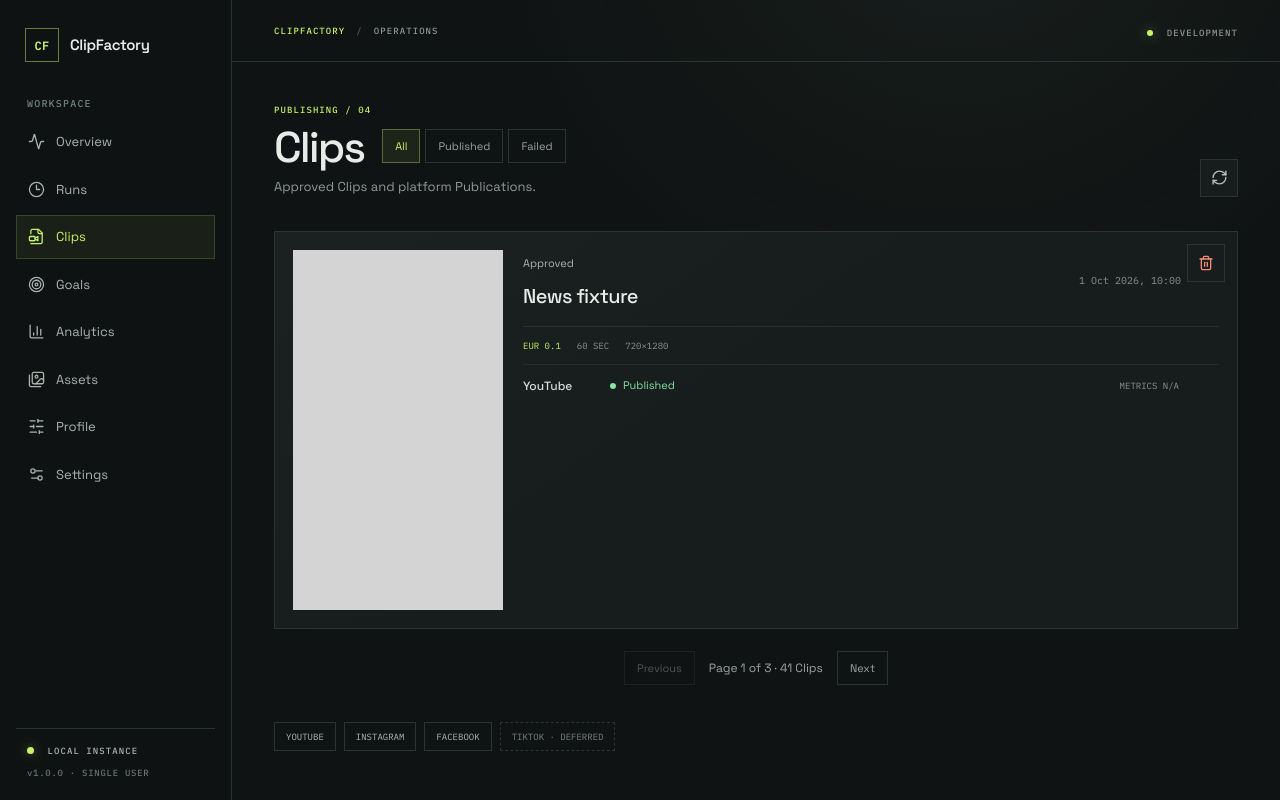
Test: CF-REQ-610 paginates Clips by 20 and resets offset across All, Published and Failed tabs
Expected: the link "News fixture" is shown, [523,283,638,309]
Click the button "Next".
click(862, 668)  # box [837,651,888,685]
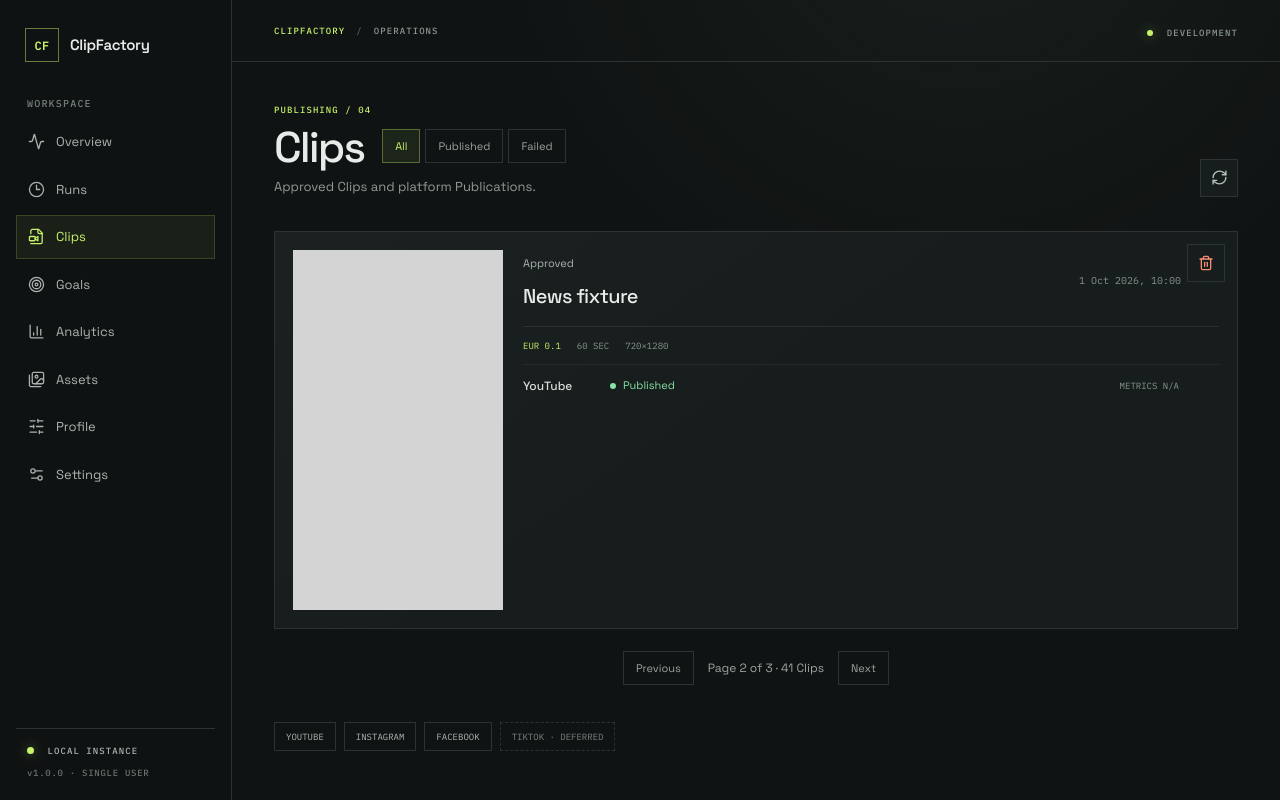
Expected: the text "Page 2 of 3 · 41 Clips" is shown, [708,659,824,677]
Click the button "Previous".
click(658, 668)  # box [623,651,694,685]
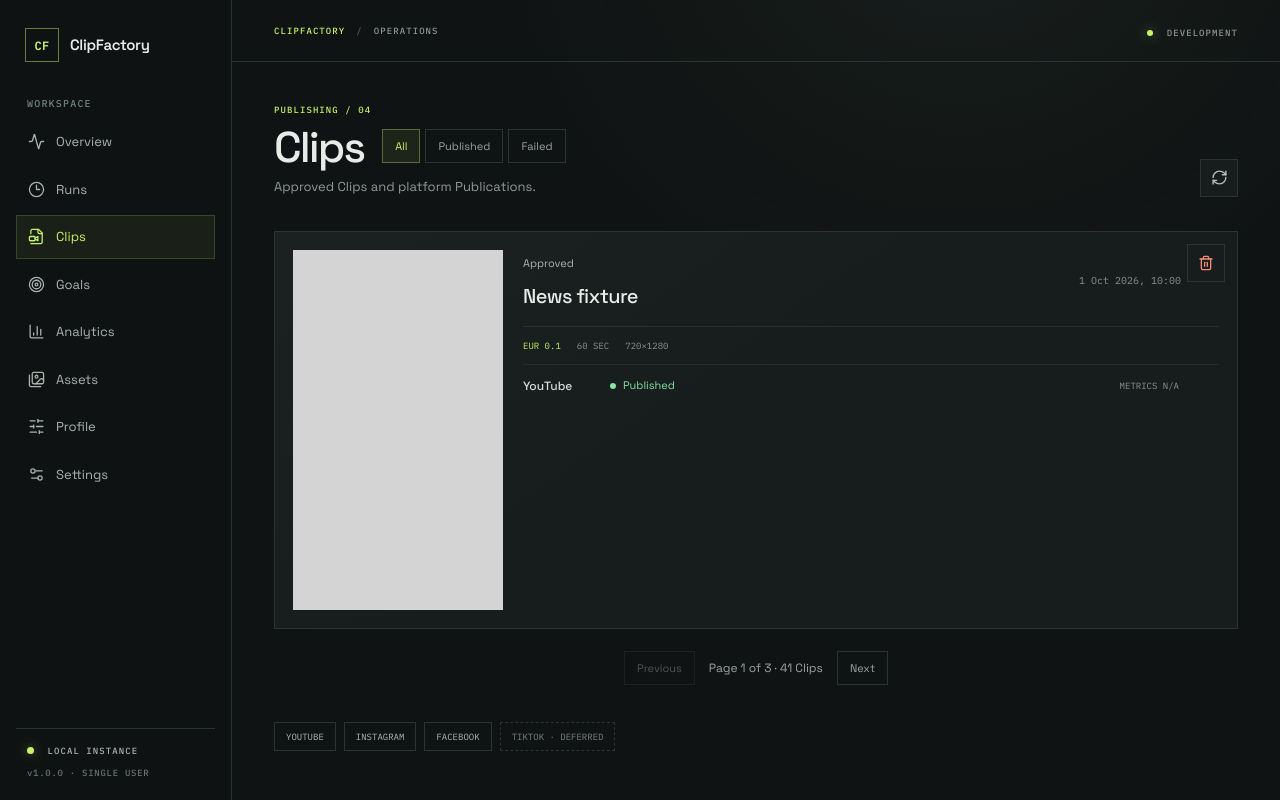
Expected: the text "Page 1 of 3 · 41 Clips" is shown, [709,659,823,677]
Click the tab "Published".
click(464, 146)  # box [426,129,504,163]
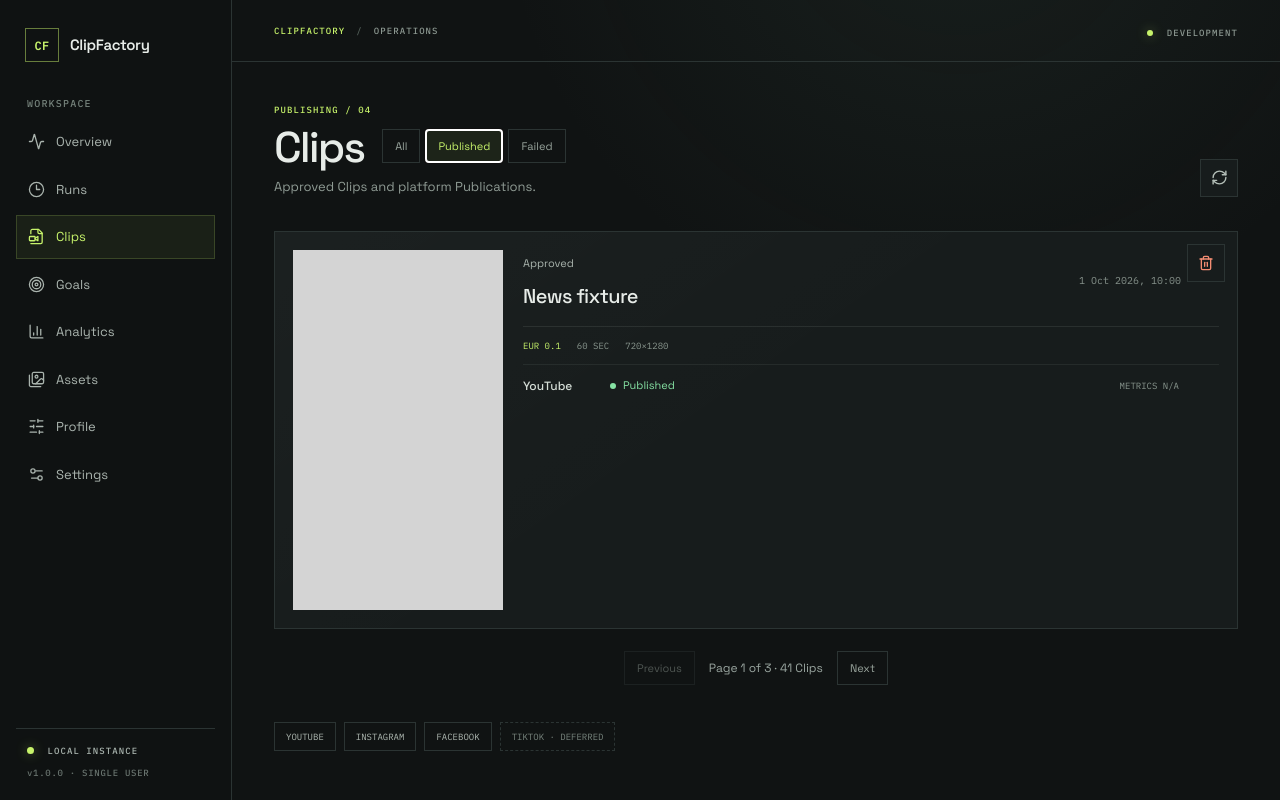
Expected: the link "News fixture" is shown, [523,283,638,309]
Click the button "Next".
click(862, 668)  # box [837,651,888,685]
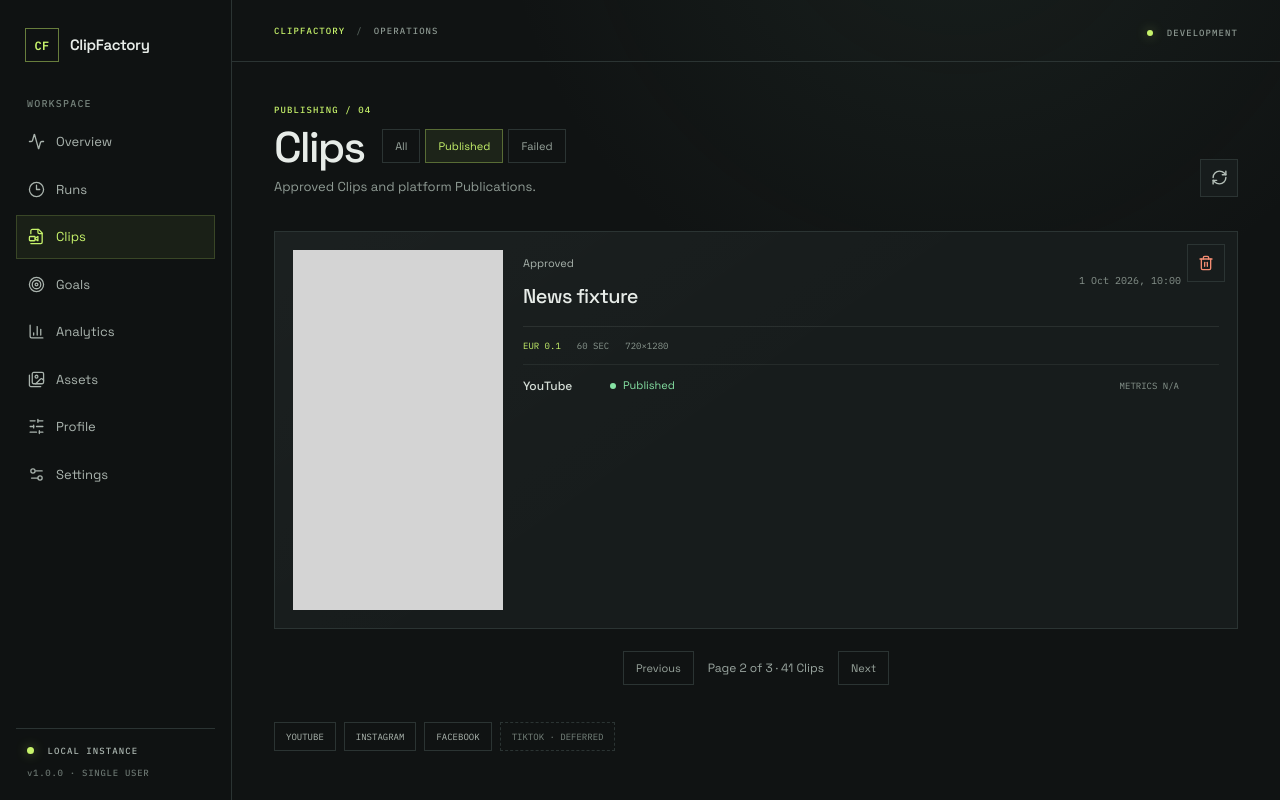
Expected: the text "Page 2 of 3 · 41 Clips" is shown, [708,659,824,677]
Click the tab "Failed".
click(537, 146)  # box [508,129,566,163]
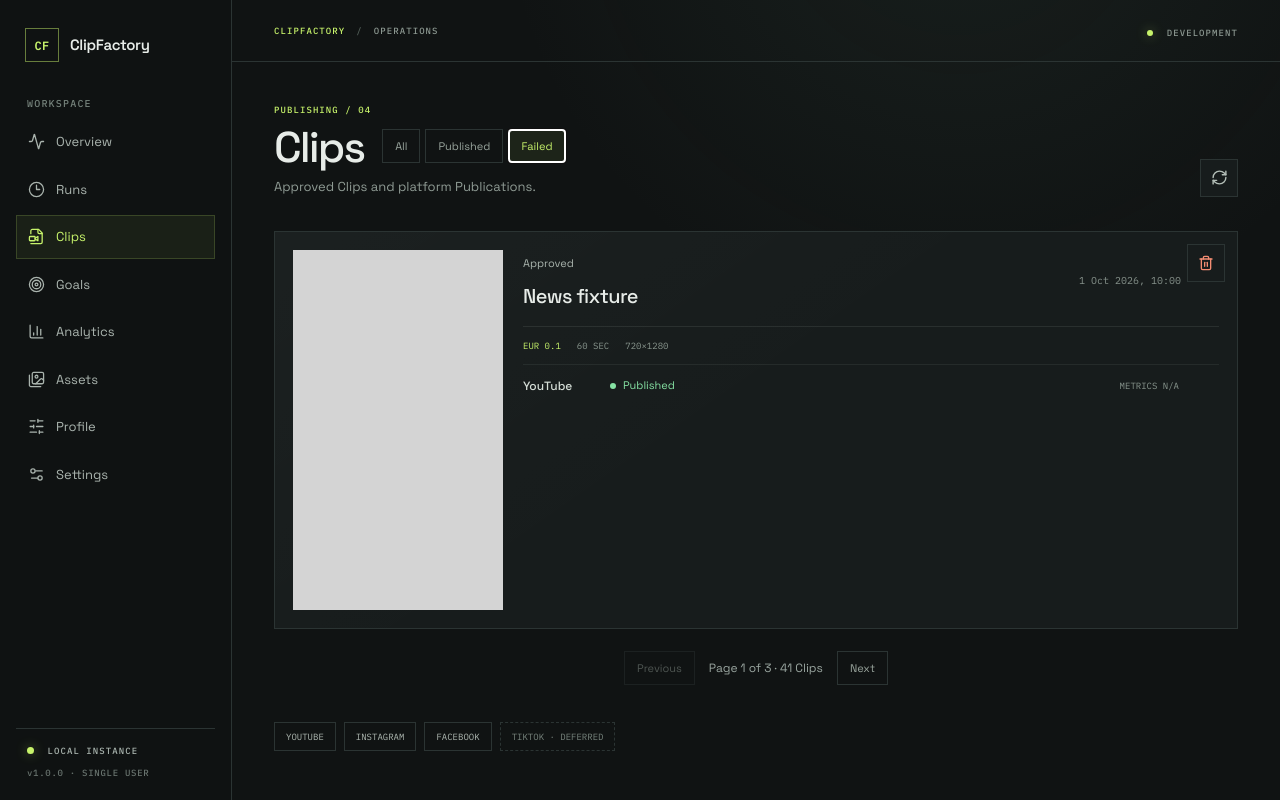
Expected: the text "Page 1 of 3 · 41 Clips" is shown, [709,659,823,677]
Expected: the button "Previous" is disabled, [624,651,695,685]
